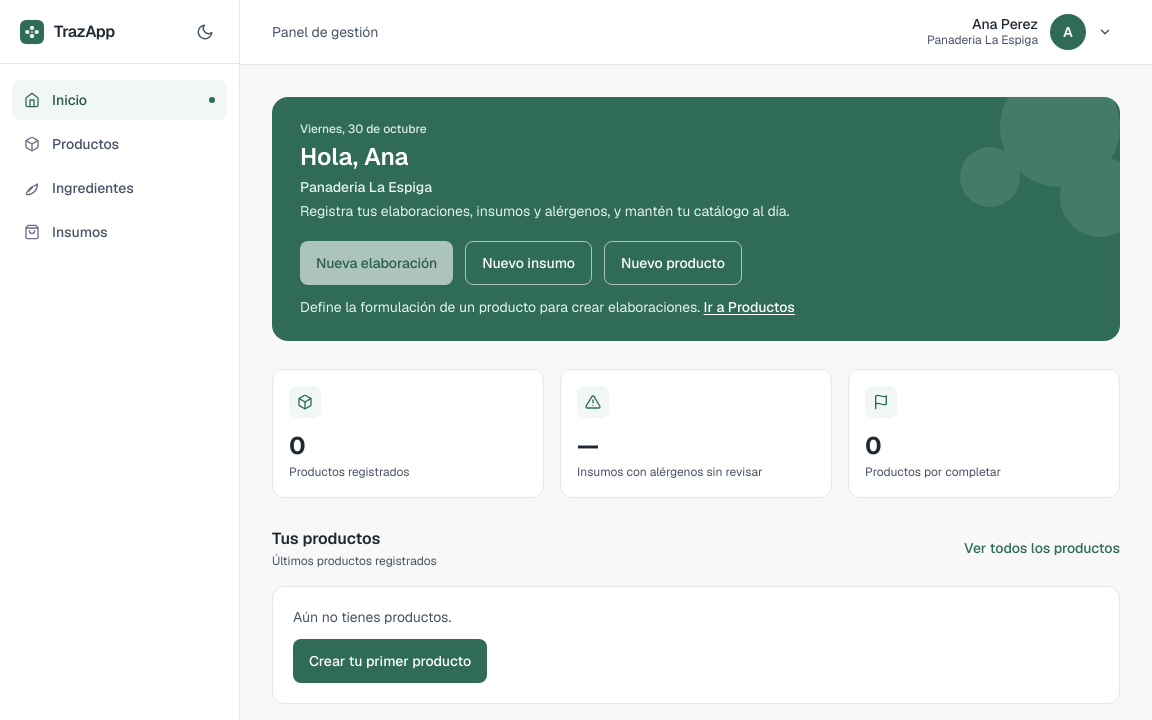
Protección y logout HU12 › cerrar sesión elimina el token y vuelve a Login
Expected: the heading "Hola, Ana" is shown, top-left (300, 141), bottom-right (408, 172)
Click the button with aria-label "Menú de usuario": (1020, 32) top-left (919, 10), bottom-right (1120, 54)
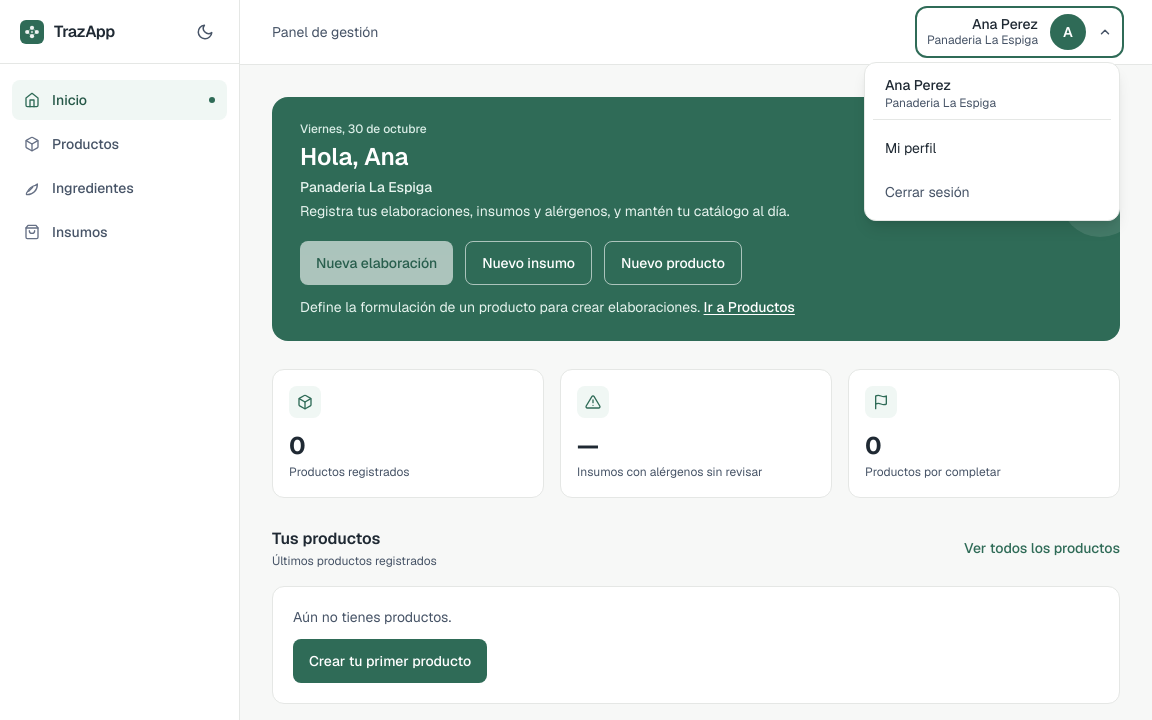
Click the button "Cerrar sesión": (992, 192) top-left (873, 172), bottom-right (1111, 212)
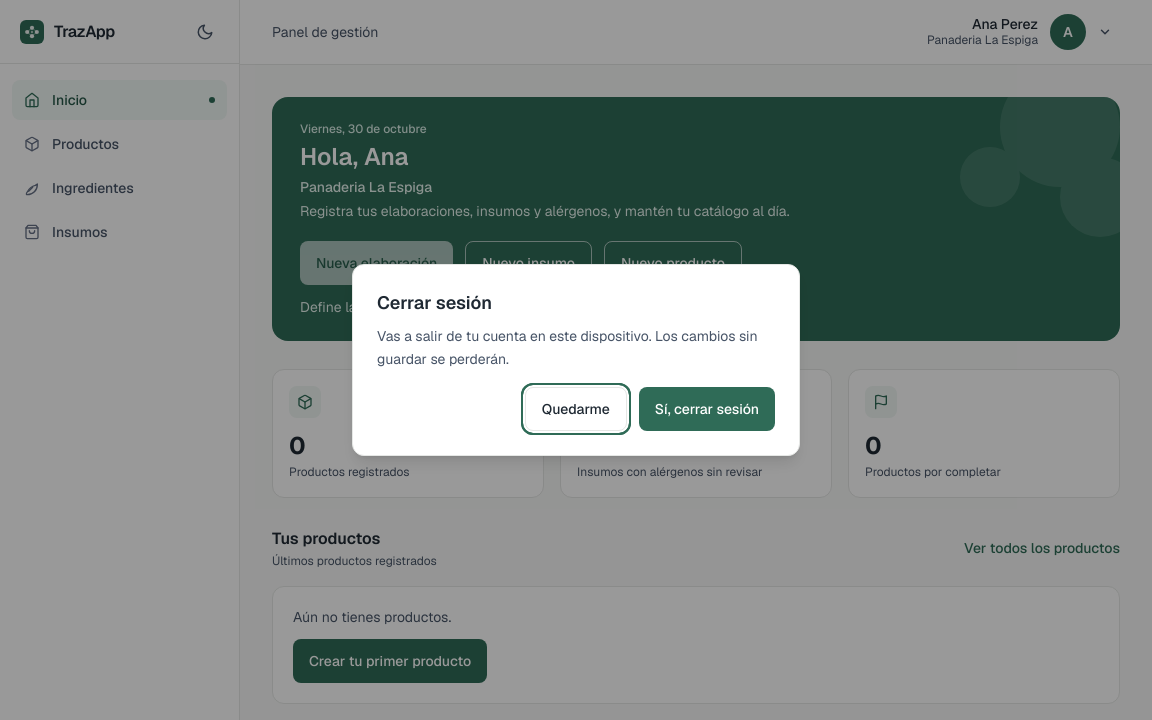
Click the button "Sí, cerrar sesión": (707, 409) top-left (639, 387), bottom-right (775, 431)
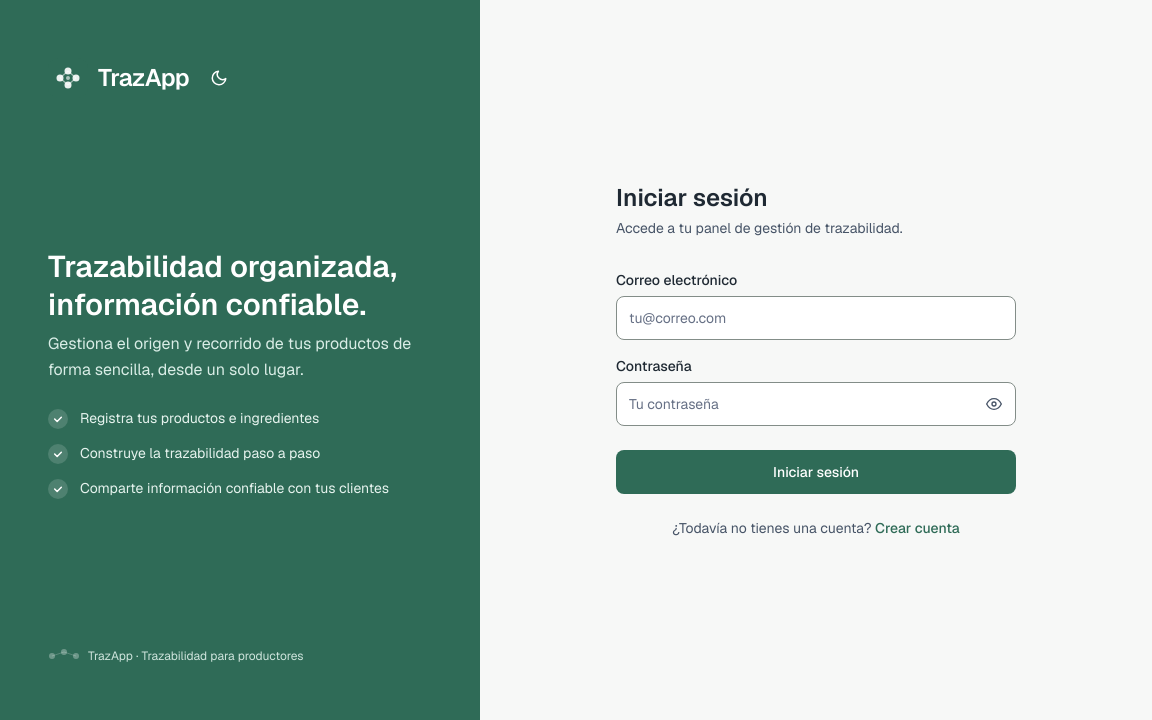
Now the heading "Iniciar sesión" is shown, box top-left (616, 182), bottom-right (768, 213)
